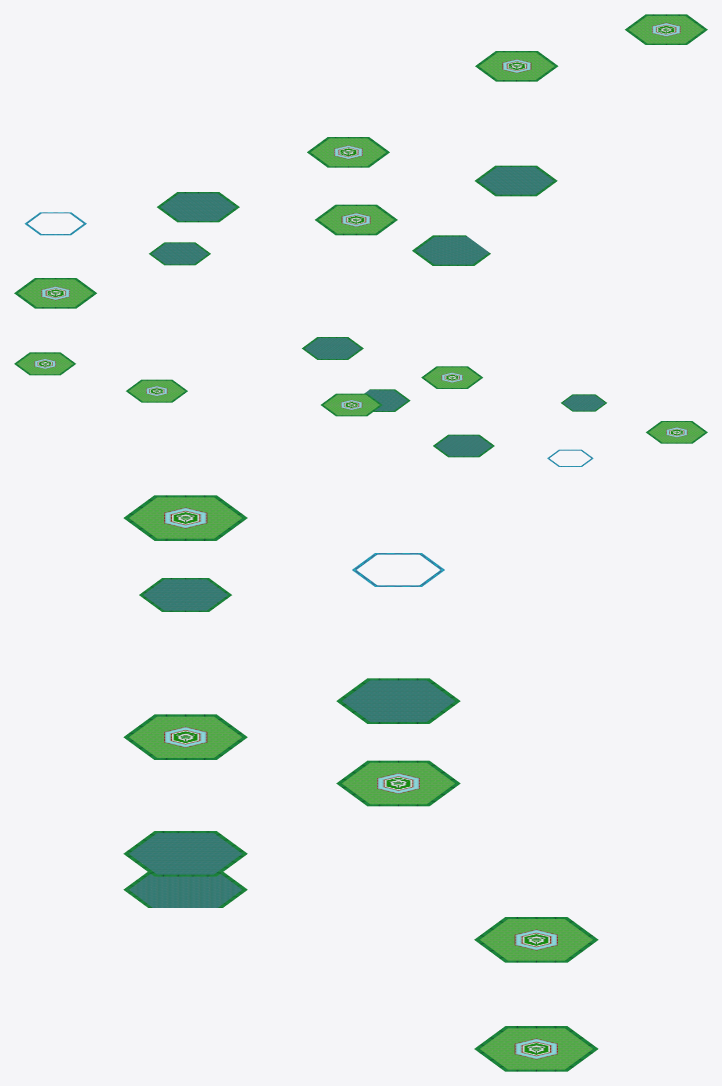
The model's file is S03_ONS_10.OBJ.
3 renders of one model, top to bottom at view 1: azimuth 30°, elevation 25°; view 2: azimuth 150°, elevation 25°; view 3: azimuth 270°, elevation 25°, orthographic. The views are drawn at different scales.
Parts seen in each view (by area): view 1: s03_ons_10_3, s03_ons_10_4, s03_ons_10_0, s03_ons_10_2, s03_ons_10_1; view 2: s03_ons_10_3, s03_ons_10_4, s03_ons_10_0, s03_ons_10_2, s03_ons_10_1; view 3: s03_ons_10_3, s03_ons_10_4, s03_ons_10_0, s03_ons_10_2, s03_ons_10_1.
Boxes of the visible parts, <box> form: s03_ons_10_3: <box>18,16,703,306</box>; s03_ons_10_4: <box>152,167,553,264</box>; s03_ons_10_0: <box>14,14,707,308</box>; s03_ons_10_2: <box>41,22,680,300</box>; s03_ons_10_1: <box>46,25,675,297</box>; s03_ons_10_3: <box>17,353,704,442</box>; s03_ons_10_4: <box>305,338,604,456</box>; s03_ons_10_0: <box>14,337,707,457</box>; s03_ons_10_2: <box>34,358,687,437</box>; s03_ons_10_1: <box>38,360,683,435</box>; s03_ons_10_3: <box>129,497,592,1069</box>; s03_ons_10_4: <box>129,579,454,907</box>; s03_ons_10_0: <box>123,495,598,1071</box>; s03_ons_10_2: <box>164,507,557,1059</box>; s03_ons_10_1: <box>172,511,549,1055</box>.
Size of the model in its own units: 4550 by 350 by 1586.
